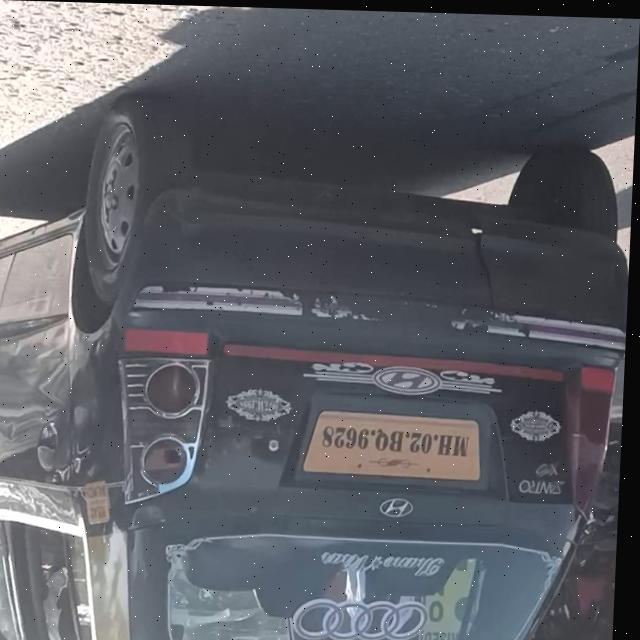plate: (308, 406, 488, 478)
